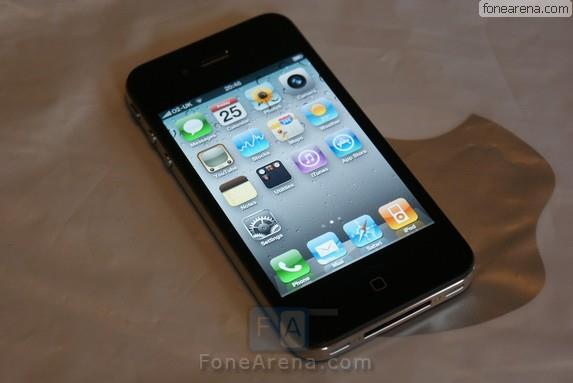iphone: (131, 23, 477, 344)
